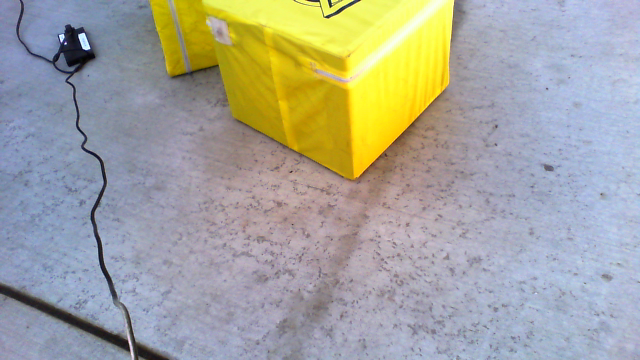cube: (203, 1, 455, 180), (147, 1, 297, 79)
